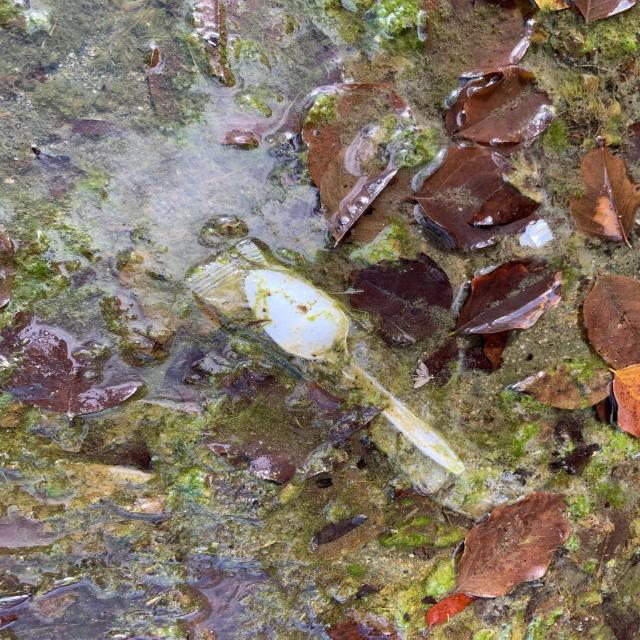litter: (244, 269, 465, 475)
